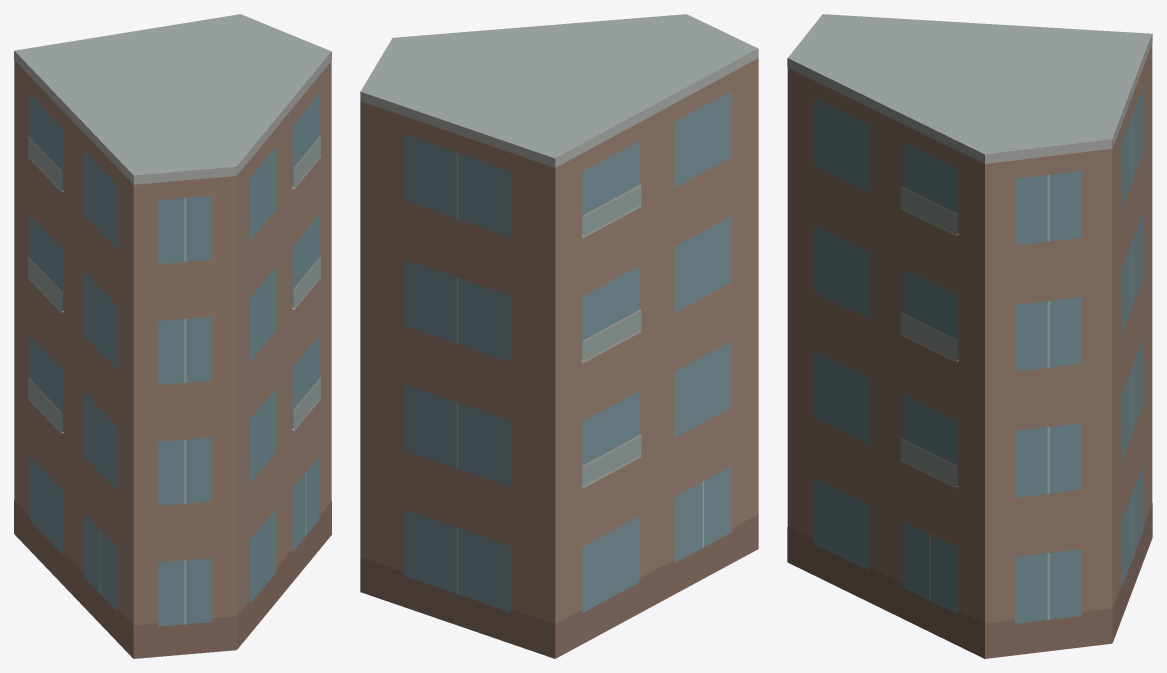
Rendered from survey-upis-33034812.glb.
The picture shows the model from 3 angles, left to right: view 1: azimuth 30°, elevation 25°; view 2: azimuth 150°, elevation 25°; view 3: azimuth 270°, elevation 25°; orthographic projection. The views are drawn at different scales.
Parts seen in each view (by area): view 1: survey-upis-33034812.tmp; view 2: survey-upis-33034812.tmp; view 3: survey-upis-33034812.tmp.
Boxes of the visible parts, x1,y1,x2,y2 form: survey-upis-33034812.tmp: (14,14,331,658); survey-upis-33034812.tmp: (360,14,758,658); survey-upis-33034812.tmp: (787,14,1152,658).
Size of the model in its own units: 7.72 by 12.9 by 8.46.
